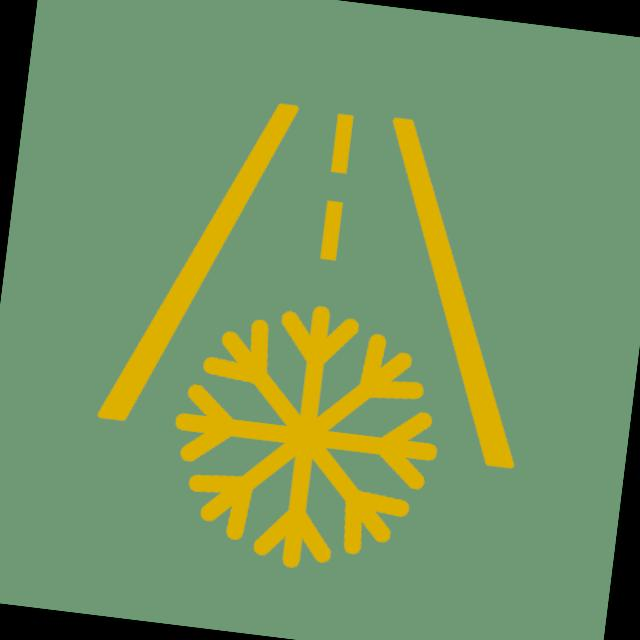kontrolka: (42, 62, 592, 608)
